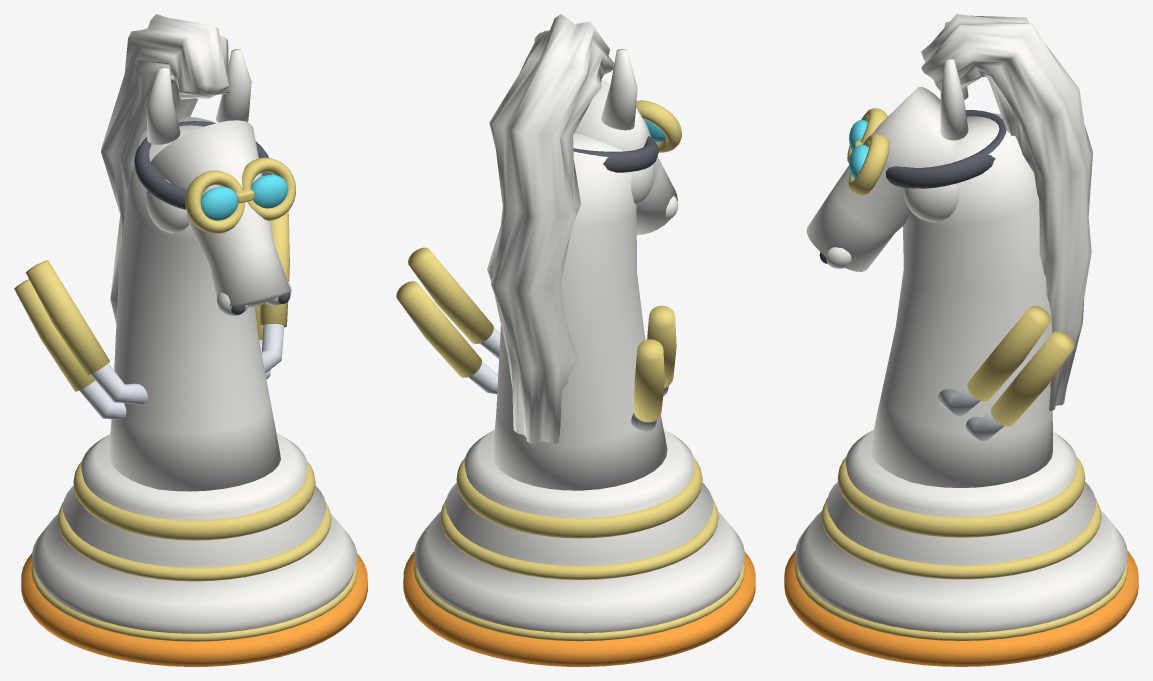
The model's file is knight-classic-turbo.glb.
3 views of the same model, side by side, from view 1: azimuth 30°, elevation 25°; view 2: azimuth 150°, elevation 25°; view 3: azimuth 270°, elevation 25° (orthographic). The views are drawn at different scales.
Parts seen in each view (by area): view 1: knight-classic-turbo; view 2: knight-classic-turbo; view 3: knight-classic-turbo.
Boxes of the visible parts, x1,y1,x2,y2 form: knight-classic-turbo: (14, 14, 367, 666); knight-classic-turbo: (396, 14, 755, 666); knight-classic-turbo: (784, 14, 1138, 666).
Size of the model in its own units: 0.75 by 1.35 by 0.75.
